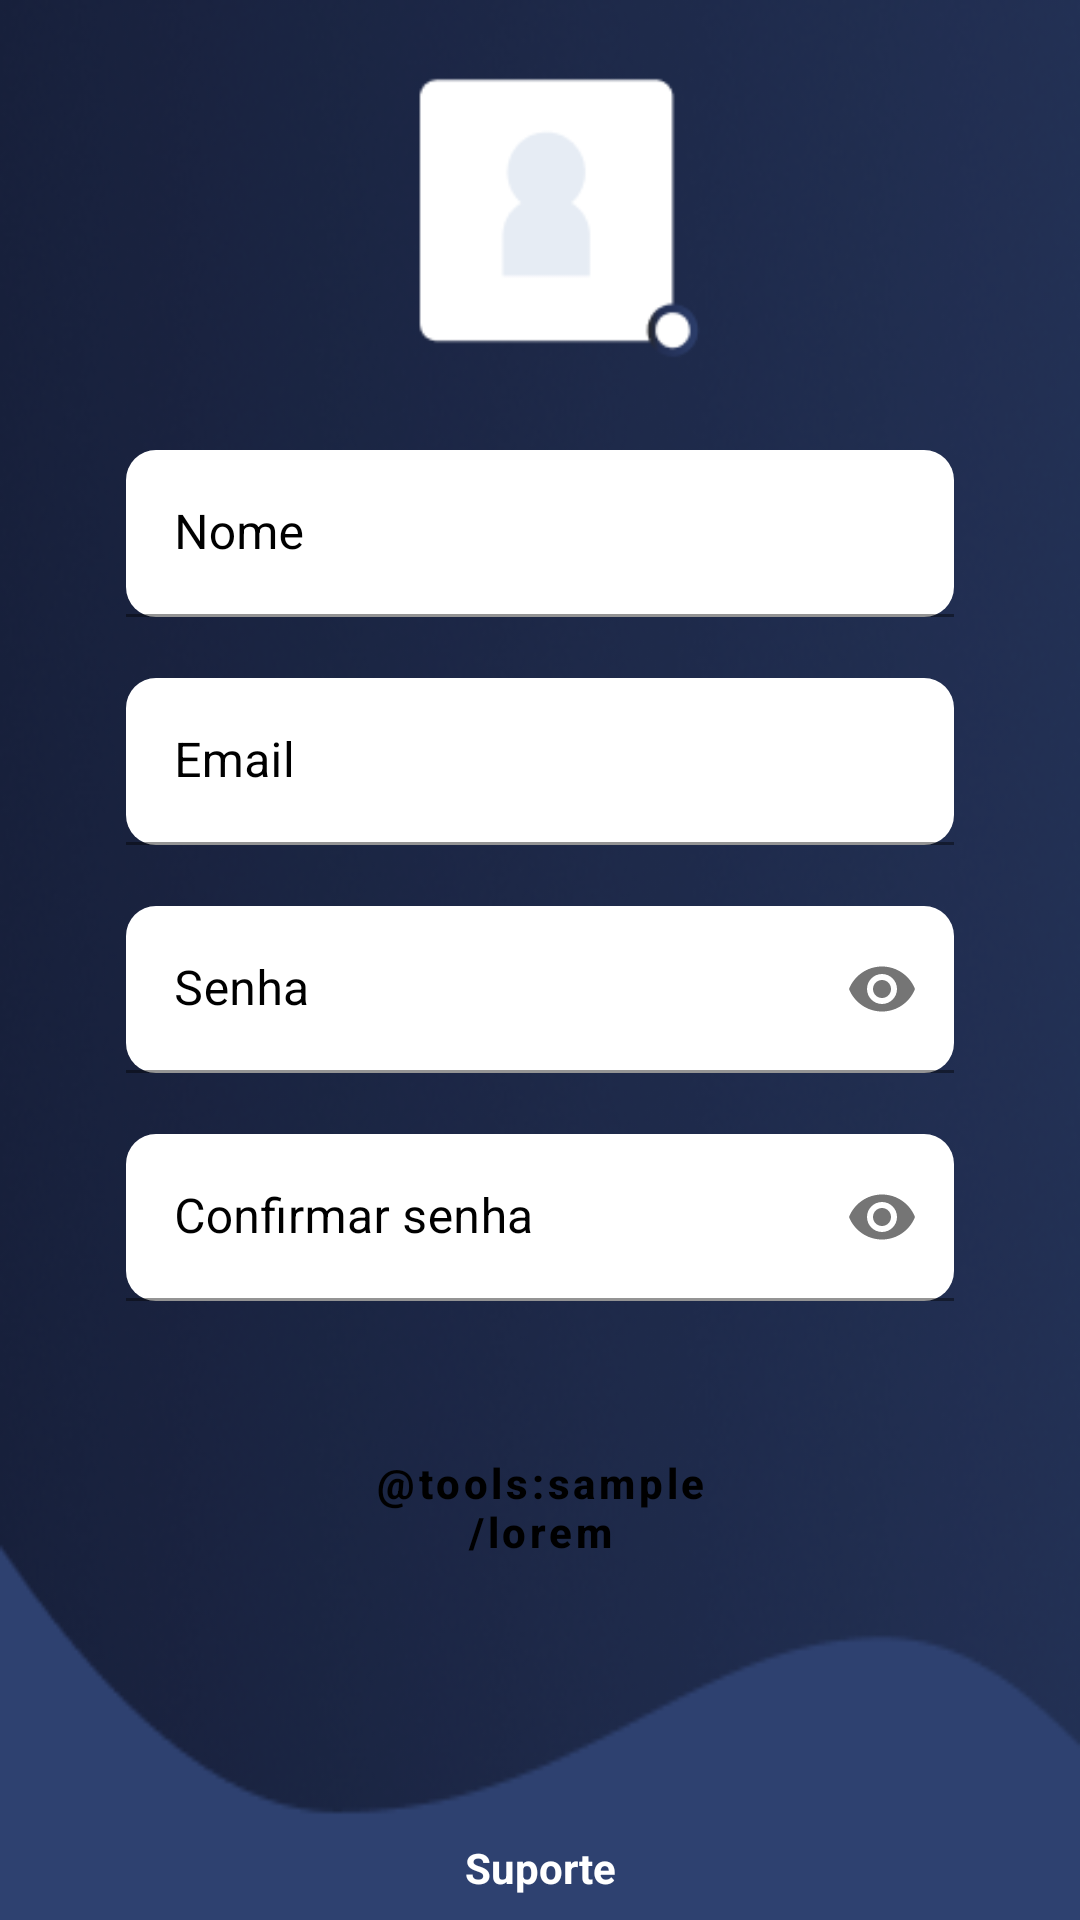

Icon click points for this 1080×1920 phone screenshot, format (x,y):
User image: (558,214)
